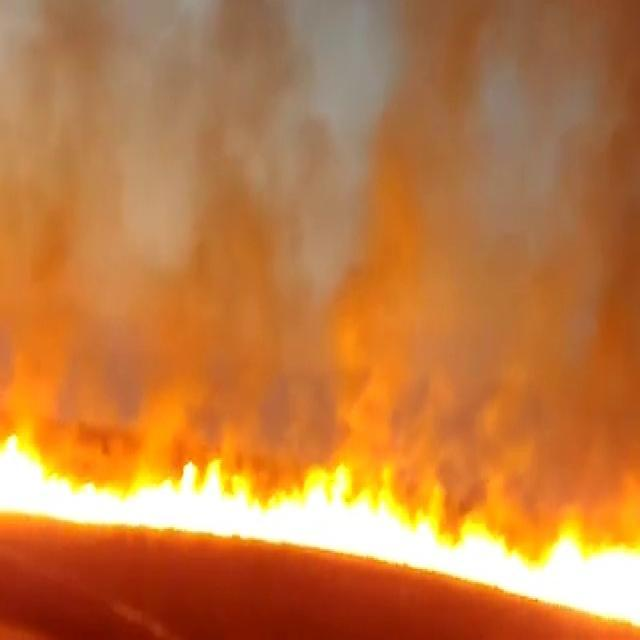Fire: (5, 432, 638, 626)
Smoke: (11, 12, 632, 486)
